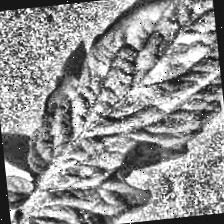leaf mold: (11, 0, 224, 224)
